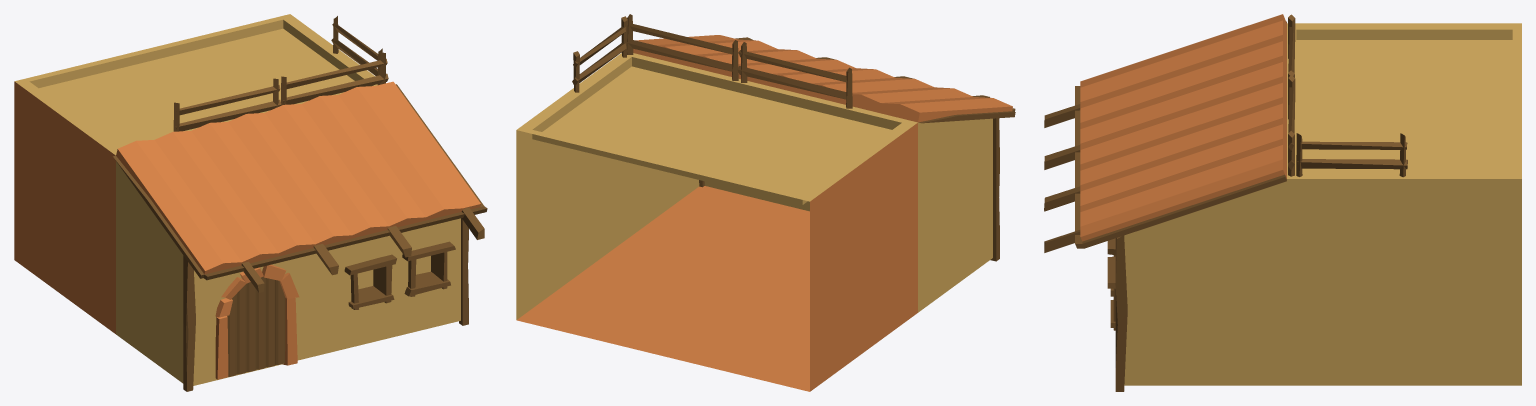
File: House2.fbx
The picture shows the model from 3 angles, left to right: view 1: azimuth 30°, elevation 25°; view 2: azimuth 150°, elevation 25°; view 3: azimuth 270°, elevation 25°; orthographic projection. The views are drawn at different scales.
Parts seen in each view (by area): view 1: House2; view 2: House2; view 3: House2.
Boxes of the visible parts, left/top/right/bottom form: House2: left=14, top=14, right=487, bottom=391; House2: left=516, top=14, right=1015, bottom=391; House2: left=1044, top=14, right=1521, bottom=391.
Bounding box in the file's own units: 920 × 682 × 1162.
